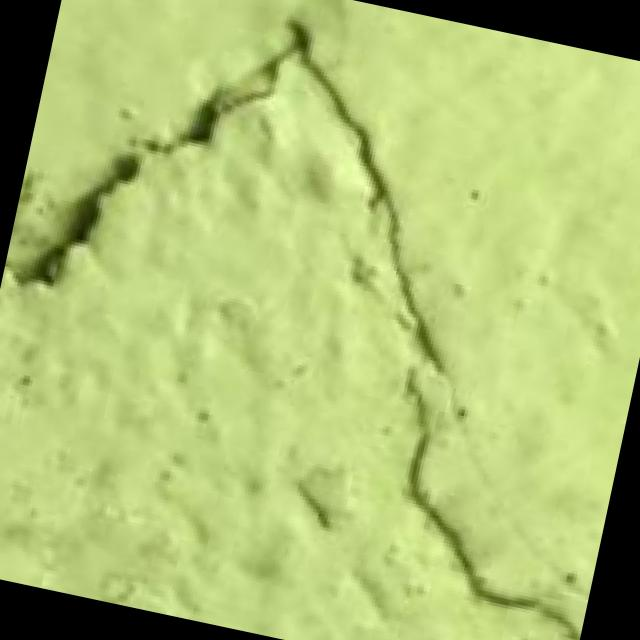crack: (0, 0, 403, 400)
